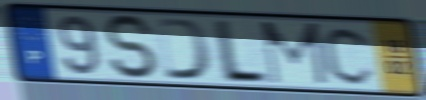9: (53, 13, 104, 77)
C: (320, 24, 378, 87)
D: (154, 16, 215, 83)
L: (213, 17, 270, 86)
M: (258, 20, 331, 87)
S: (101, 12, 163, 82)
